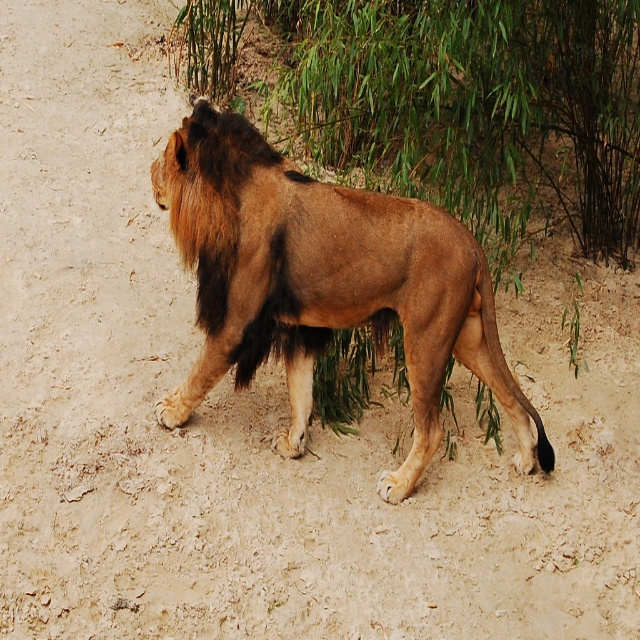Lion: (152, 94, 558, 505)
